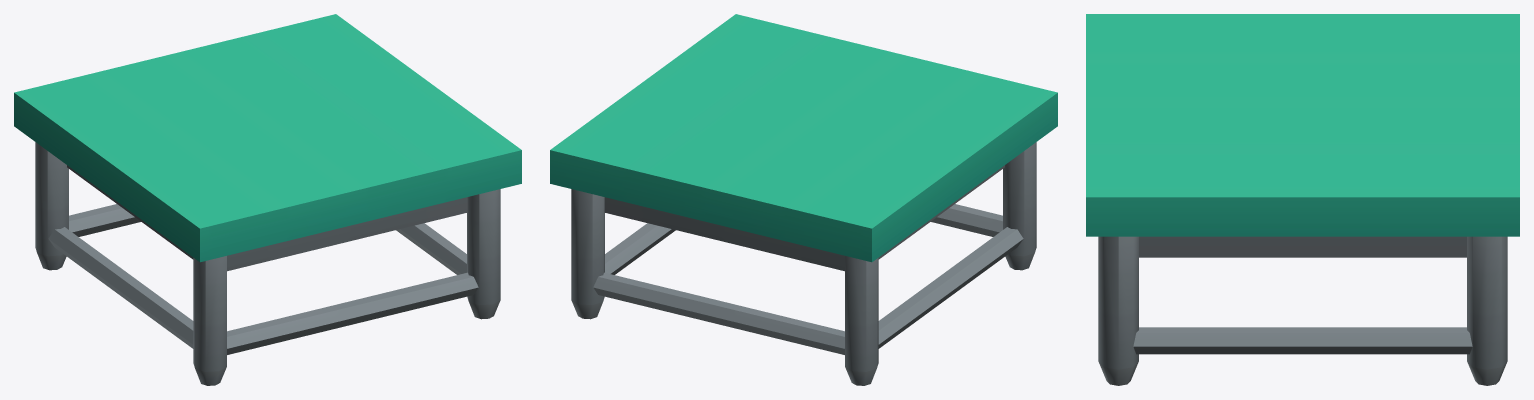
File: kaykit-restaurant-bits-kitchentable-b.glb
The picture shows the model from 3 angles, left to right: view 1: azimuth 30°, elevation 25°; view 2: azimuth 150°, elevation 25°; view 3: azimuth 270°, elevation 25°; orthographic projection. The views are drawn at different scales.
Visible parts, largest first — view 1: kitchentable_B; view 2: kitchentable_B; view 3: kitchentable_B.
Part boxes in pixels (<box>): kitchentable_B: <box>14,14,521,385</box>; kitchentable_B: <box>550,14,1057,385</box>; kitchentable_B: <box>1086,14,1519,385</box>.
Bounding box in the file's own units: 2 × 1 × 2.
1 material, 1 textured.
